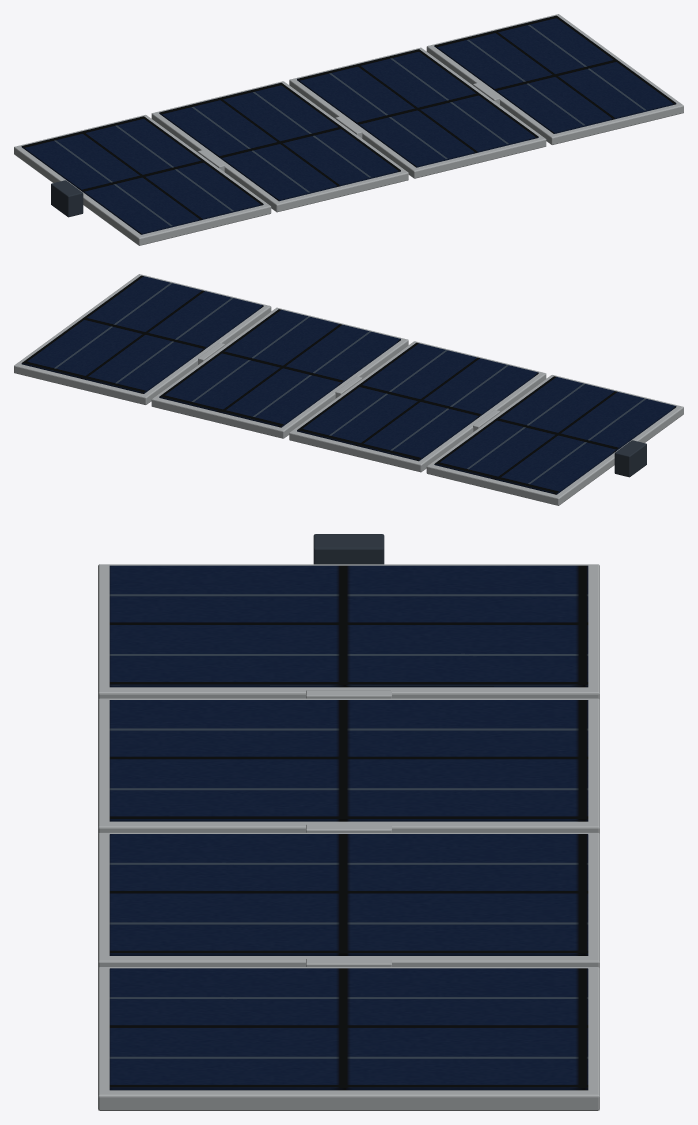
File: medium_solar_array.glb
3 views of the same model, one above another, from view 1: azimuth 30°, elevation 25°; view 2: azimuth 150°, elevation 25°; view 3: azimuth 270°, elevation 25° (orthographic). The views are drawn at different scales.
Visible parts, largest first — view 1: Cell_Surface.005, Cell_Surface.003, Cell_Surface.002, Cell_Surface.004, Panel_Frame.002, Panel_Frame.004, Panel_Frame.003, Panel_Frame.005, Attach_Mount.001; view 2: Cell_Surface.005, Cell_Surface.003, Cell_Surface.002, Cell_Surface.004, Panel_Frame.002, Panel_Frame.004, Panel_Frame.003, Panel_Frame.005, Attach_Mount.001; view 3: Cell_Surface.002, Cell_Surface.005, Cell_Surface.003, Cell_Surface.004, Panel_Frame.005, Panel_Frame.003, Panel_Frame.002, Panel_Frame.004, Attach_Mount.001.
Boxes of the visible parts, x1,y1,x2,y2 form: Cell_Surface.005: (434, 15, 676, 133); Cell_Surface.003: (159, 82, 400, 201); Cell_Surface.002: (21, 116, 263, 234); Cell_Surface.004: (297, 49, 538, 167); Panel_Frame.002: (14, 115, 271, 245); Panel_Frame.004: (289, 47, 546, 178); Panel_Frame.003: (151, 81, 408, 212); Panel_Frame.005: (426, 14, 683, 144); Attach_Mount.001: (51, 180, 83, 217); Cell_Surface.005: (21, 275, 263, 393); Cell_Surface.003: (297, 342, 538, 461); Cell_Surface.002: (434, 376, 676, 494); Cell_Surface.004: (159, 309, 400, 427); Panel_Frame.002: (426, 375, 683, 505); Panel_Frame.004: (151, 307, 408, 438); Panel_Frame.003: (289, 341, 546, 472); Panel_Frame.005: (14, 274, 271, 404); Attach_Mount.001: (614, 440, 646, 477); Cell_Surface.002: (109, 565, 588, 687); Cell_Surface.005: (109, 968, 588, 1090); Cell_Surface.003: (109, 700, 588, 821); Cell_Surface.004: (109, 834, 588, 955); Panel_Frame.005: (98, 967, 599, 1110); Panel_Frame.003: (98, 698, 599, 833); Panel_Frame.002: (98, 564, 599, 699); Panel_Frame.004: (98, 832, 599, 967); Attach_Mount.001: (313, 534, 384, 564).
Bounding box in the file's own units: 3.31 × 0.12 × 1.28.
Materials: 3 (1 with a texture image).
